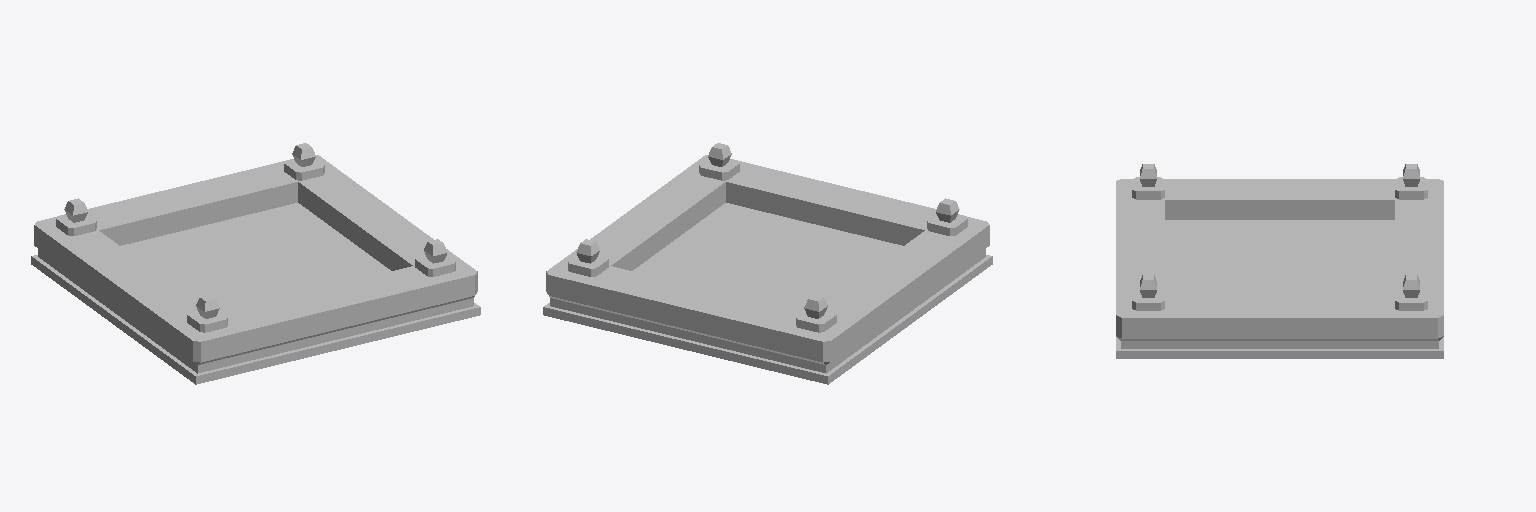
File: fountain-square.obj
The picture shows the model from 3 angles: view 1: azimuth 30°, elevation 25°; view 2: azimuth 150°, elevation 25°; view 3: azimuth 270°, elevation 25°; orthographic projection.
Visible parts, largest first — view 1: fountain-square, (%ignore); view 2: fountain-square, (%ignore); view 3: fountain-square, (%ignore).
Part boxes in pixels (left/top/right/bottom): fountain-square: left=31, top=143, right=480, bottom=384; (%ignore): left=121, top=203, right=390, bottom=312; fountain-square: left=543, top=143, right=992, bottom=384; (%ignore): left=633, top=203, right=902, bottom=312; fountain-square: left=1116, top=164, right=1443, bottom=358; (%ignore): left=1165, top=220, right=1394, bottom=296.
Bounding box in the file's own units: 2 × 0.4552 × 2.